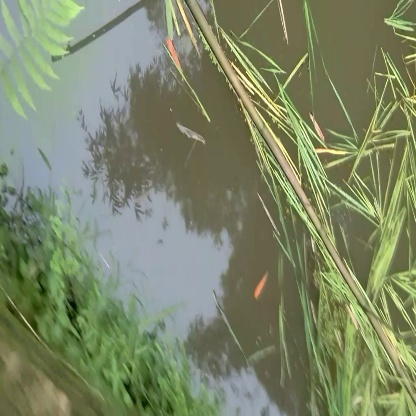branch: (237, 88, 416, 395)
